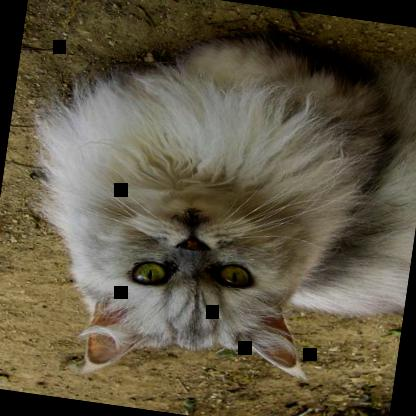cat: (10, 7, 415, 411)
